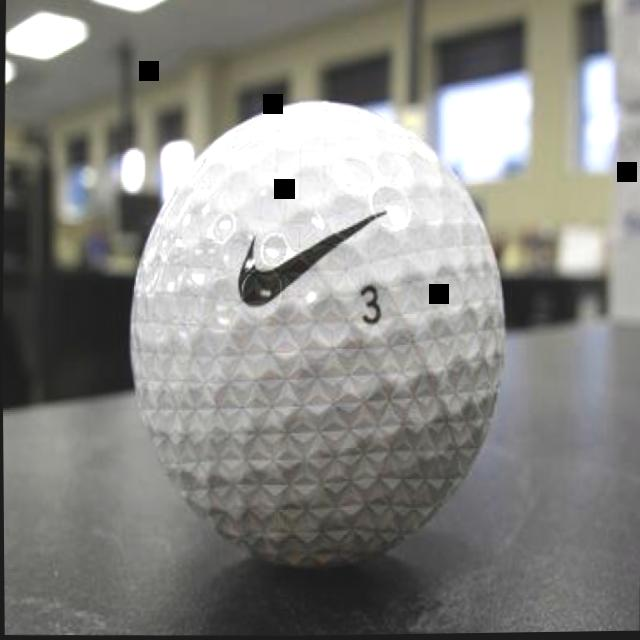golf ball: (121, 88, 518, 572)
